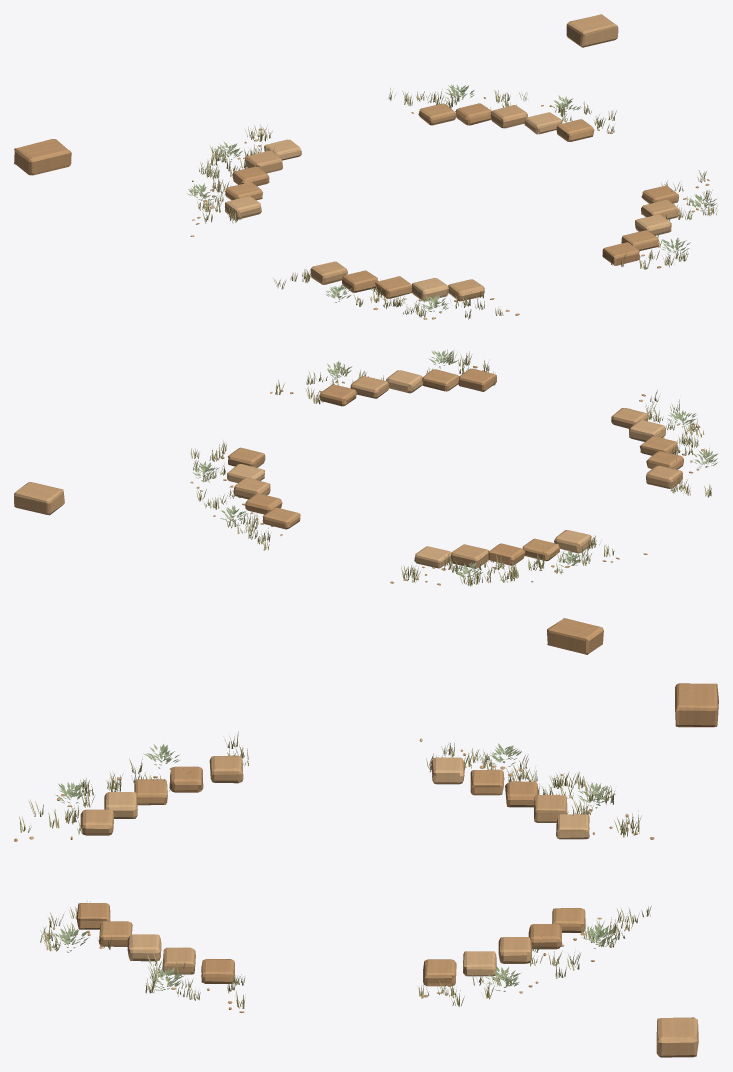
The model's file is smoko_surroundings.glb.
3 views of the same model, one above another, from view 1: azimuth 30°, elevation 25°; view 2: azimuth 150°, elevation 25°; view 3: azimuth 270°, elevation 25° (orthographic). The views are drawn at different scales.
Parts seen in each view (by area): view 1: Smoko sandstone and native planting.003; view 2: Smoko sandstone and native planting.003; view 3: Smoko sandstone and native planting.003.
Boxes of the visible parts, x1,y1,x2,y2 form: Smoko sandstone and native planting.003: [14, 14, 717, 319]; Smoko sandstone and native planting.003: [14, 349, 717, 654]; Smoko sandstone and native planting.003: [14, 683, 718, 1057].
Bounding box in the file's own units: 22.02 × 0.6424 × 18.41.
9 materials, 4 textured.
